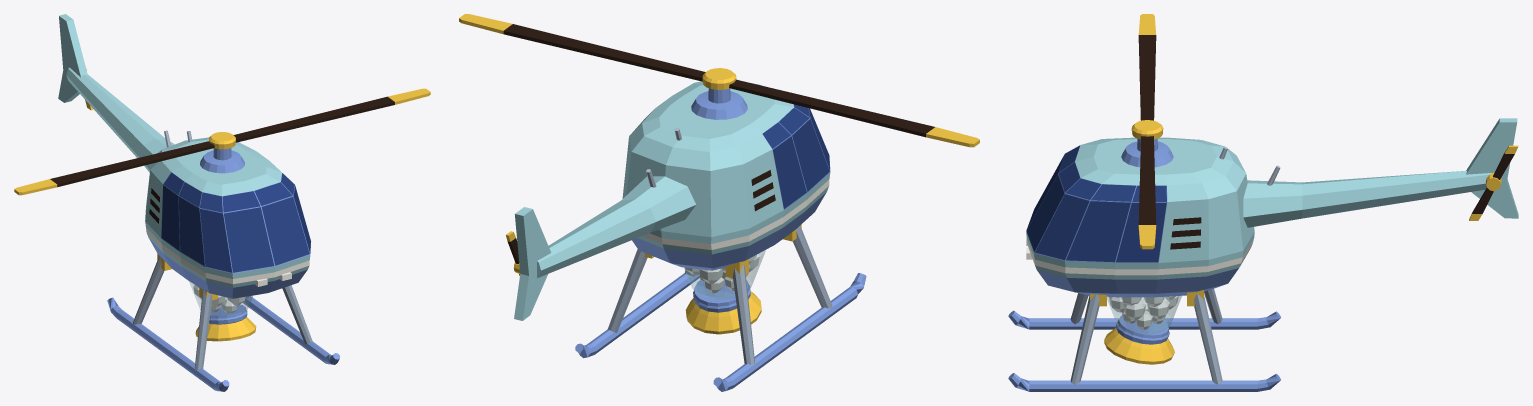
The model's file is SnowHelicopter.glb.
The picture shows the model from 3 angles, left to right: view 1: azimuth 30°, elevation 25°; view 2: azimuth 150°, elevation 25°; view 3: azimuth 270°, elevation 25°; orthographic projection. The views are drawn at different scales.
Parts seen in each view (by area): view 1: Cabin, MainRotor, LandingSkids, Tail, VacuumBell, CollectorGlass, Snow; view 2: Cabin, Tail, MainRotor, LandingSkids, VacuumBell, CollectorGlass, Snow; view 3: Cabin, Tail, LandingSkids, MainRotor, VacuumBell, CollectorGlass, Snow, TailRotor.
Part boxes in pixels (left/top/right/bottom): Cabin: left=145, top=137, right=311, bottom=298; MainRotor: left=14, top=88, right=430, bottom=195; LandingSkids: left=107, top=253, right=339, bottom=391; Tail: left=58, top=14, right=192, bottom=172; VacuumBell: left=195, top=304, right=256, bottom=341; CollectorGlass: left=189, top=281, right=252, bottom=318; Snow: left=193, top=285, right=247, bottom=313; Cabin: left=622, top=81, right=830, bottom=270; Tail: left=514, top=128, right=696, bottom=320; MainRotor: left=459, top=14, right=979, bottom=147; LandingSkids: left=575, top=224, right=866, bottom=391; VacuumBell: left=685, top=280, right=761, bottom=334; CollectorGlass: left=684, top=250, right=765, bottom=299; Snow: left=685, top=254, right=759, bottom=293; Cabin: left=1026, top=137, right=1254, bottom=297; Tail: left=1219, top=118, right=1518, bottom=227; LandingSkids: left=1008, top=289, right=1280, bottom=391; MainRotor: left=1121, top=14, right=1173, bottom=249; VacuumBell: left=1104, top=315, right=1174, bottom=364; CollectorGlass: left=1107, top=296, right=1181, bottom=334; Snow: left=1109, top=296, right=1178, bottom=329; TailRotor: left=1469, top=145, right=1518, bottom=220.
Size of the model in its own units: 5.26 by 2.54 by 4.89.
2 materials, 1 textured.
